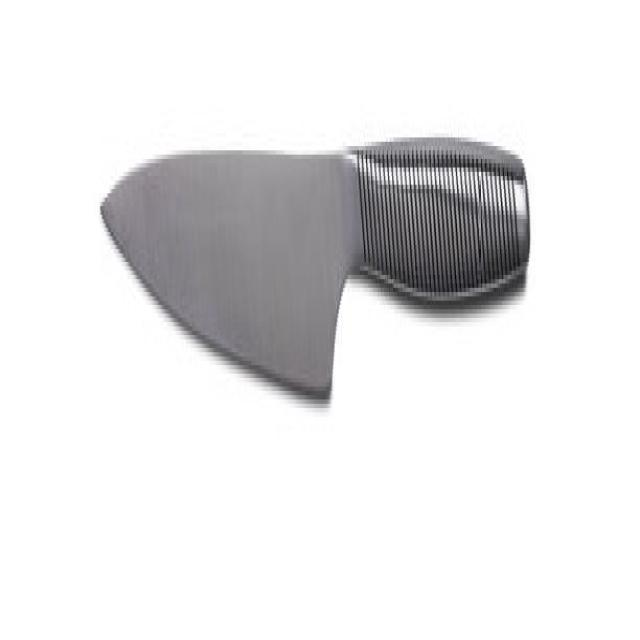knife: (95, 136, 540, 460)
